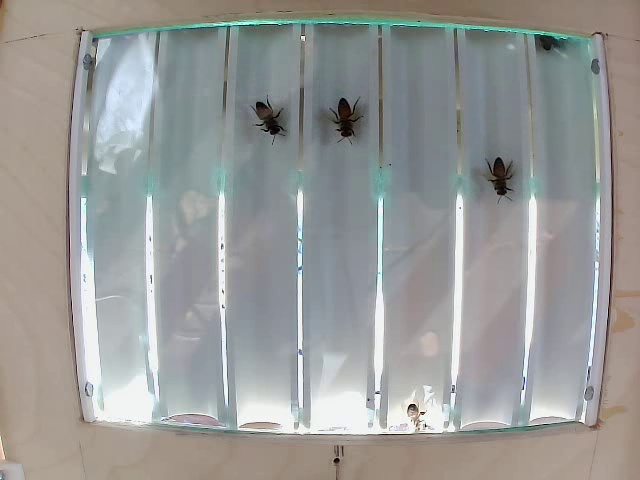bee: (246, 95, 297, 147), (334, 105, 378, 159), (535, 28, 571, 71), (486, 157, 513, 206)
